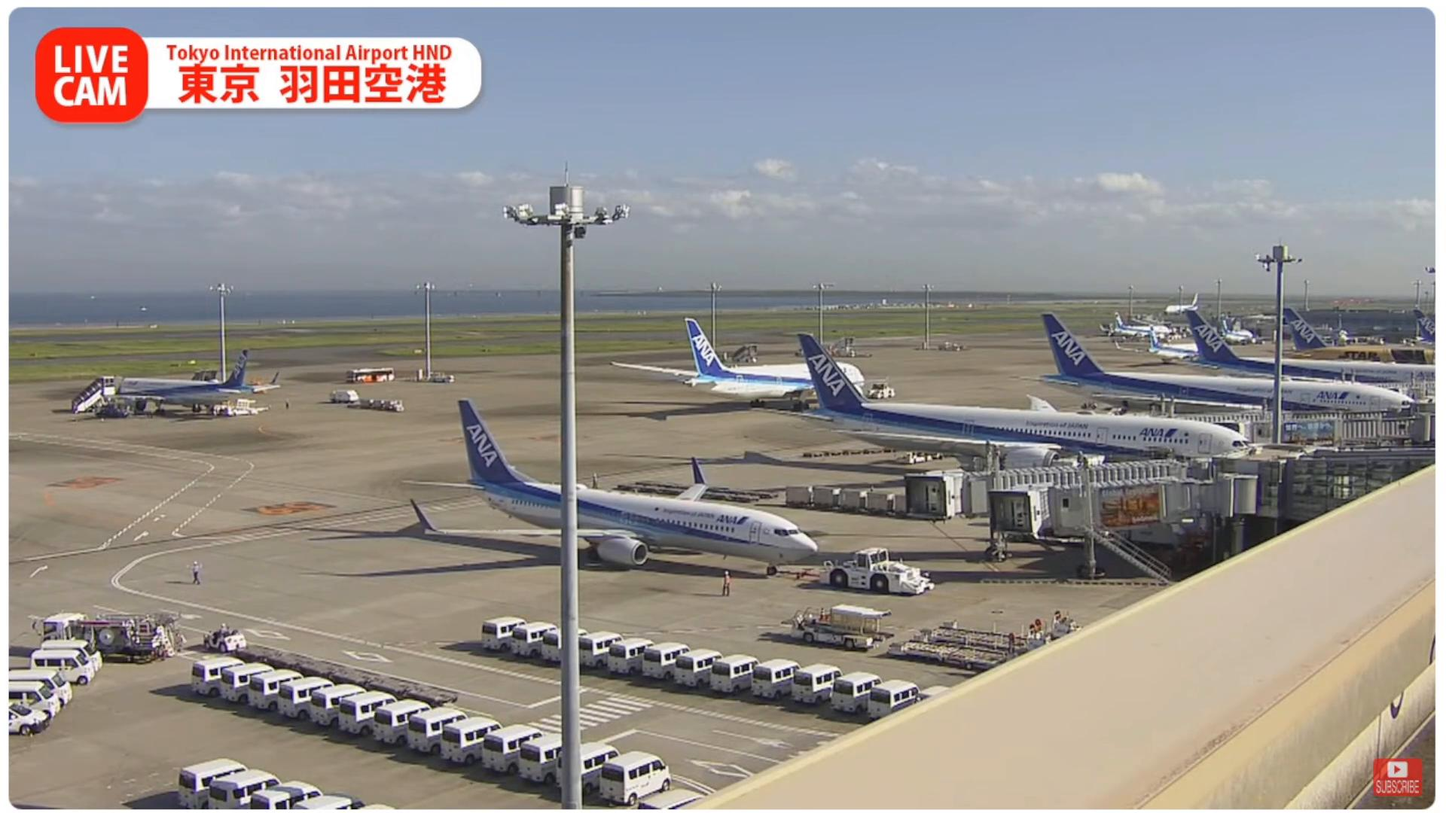APS: (818, 549, 936, 595)
Aerobridge: (904, 443, 1220, 528), (991, 451, 1256, 537)
Airplane: (396, 397, 826, 585)
JCPL: (918, 616, 1075, 656), (890, 639, 1018, 670)
Skyloader: (789, 603, 894, 653)
Window: (1290, 445, 1435, 519)
